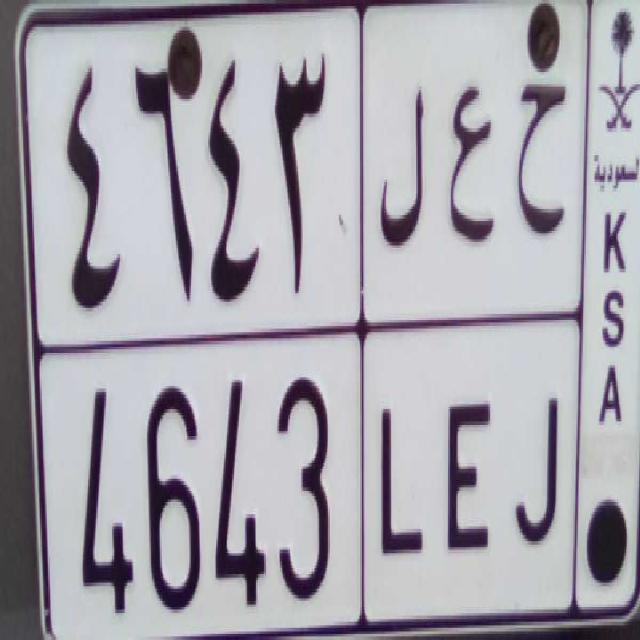license_plate: (34, 320, 578, 627)
